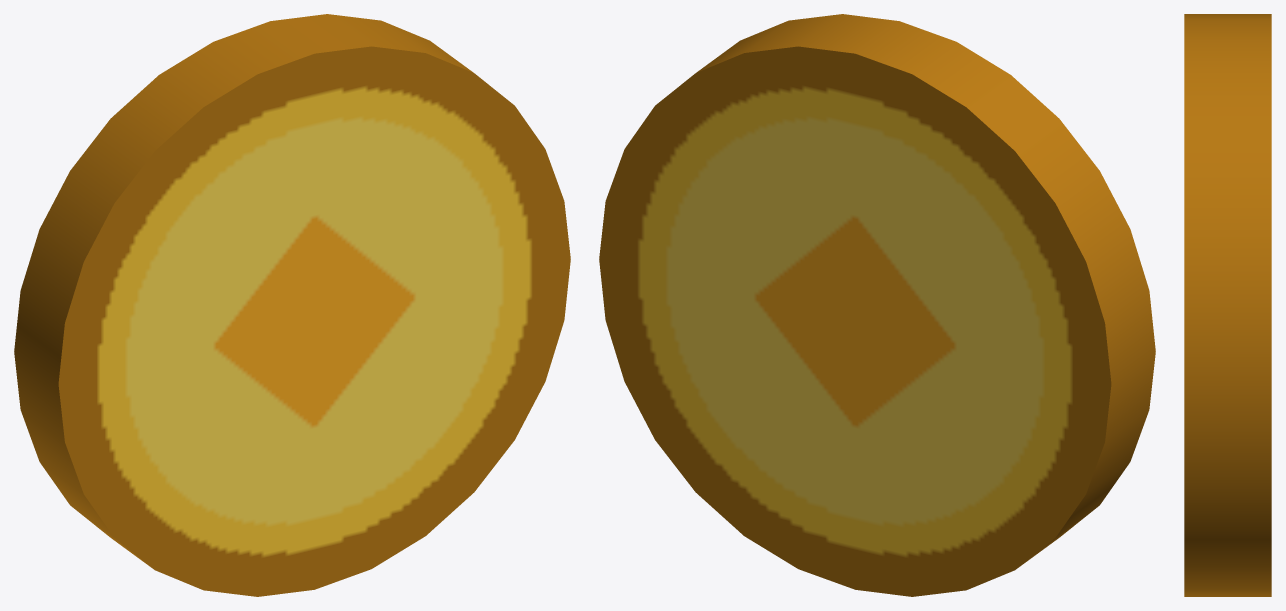
The model's file is coin.obj.
The picture shows the model from 3 angles, left to right: view 1: azimuth 30°, elevation 25°; view 2: azimuth 150°, elevation 25°; view 3: azimuth 270°, elevation 25°; orthographic projection.
Parts seen in each view (by area): view 1: Coin; view 2: Coin; view 3: Coin.
Boxes of the visible parts, left/top/right/bottom form: Coin: left=14, top=14, right=570, bottom=596; Coin: left=599, top=14, right=1155, bottom=596; Coin: left=1184, top=14, right=1271, bottom=596.
Bounding box in the file's own units: 2 × 2 × 0.3.
Materials: 1 (1 with a texture image).
